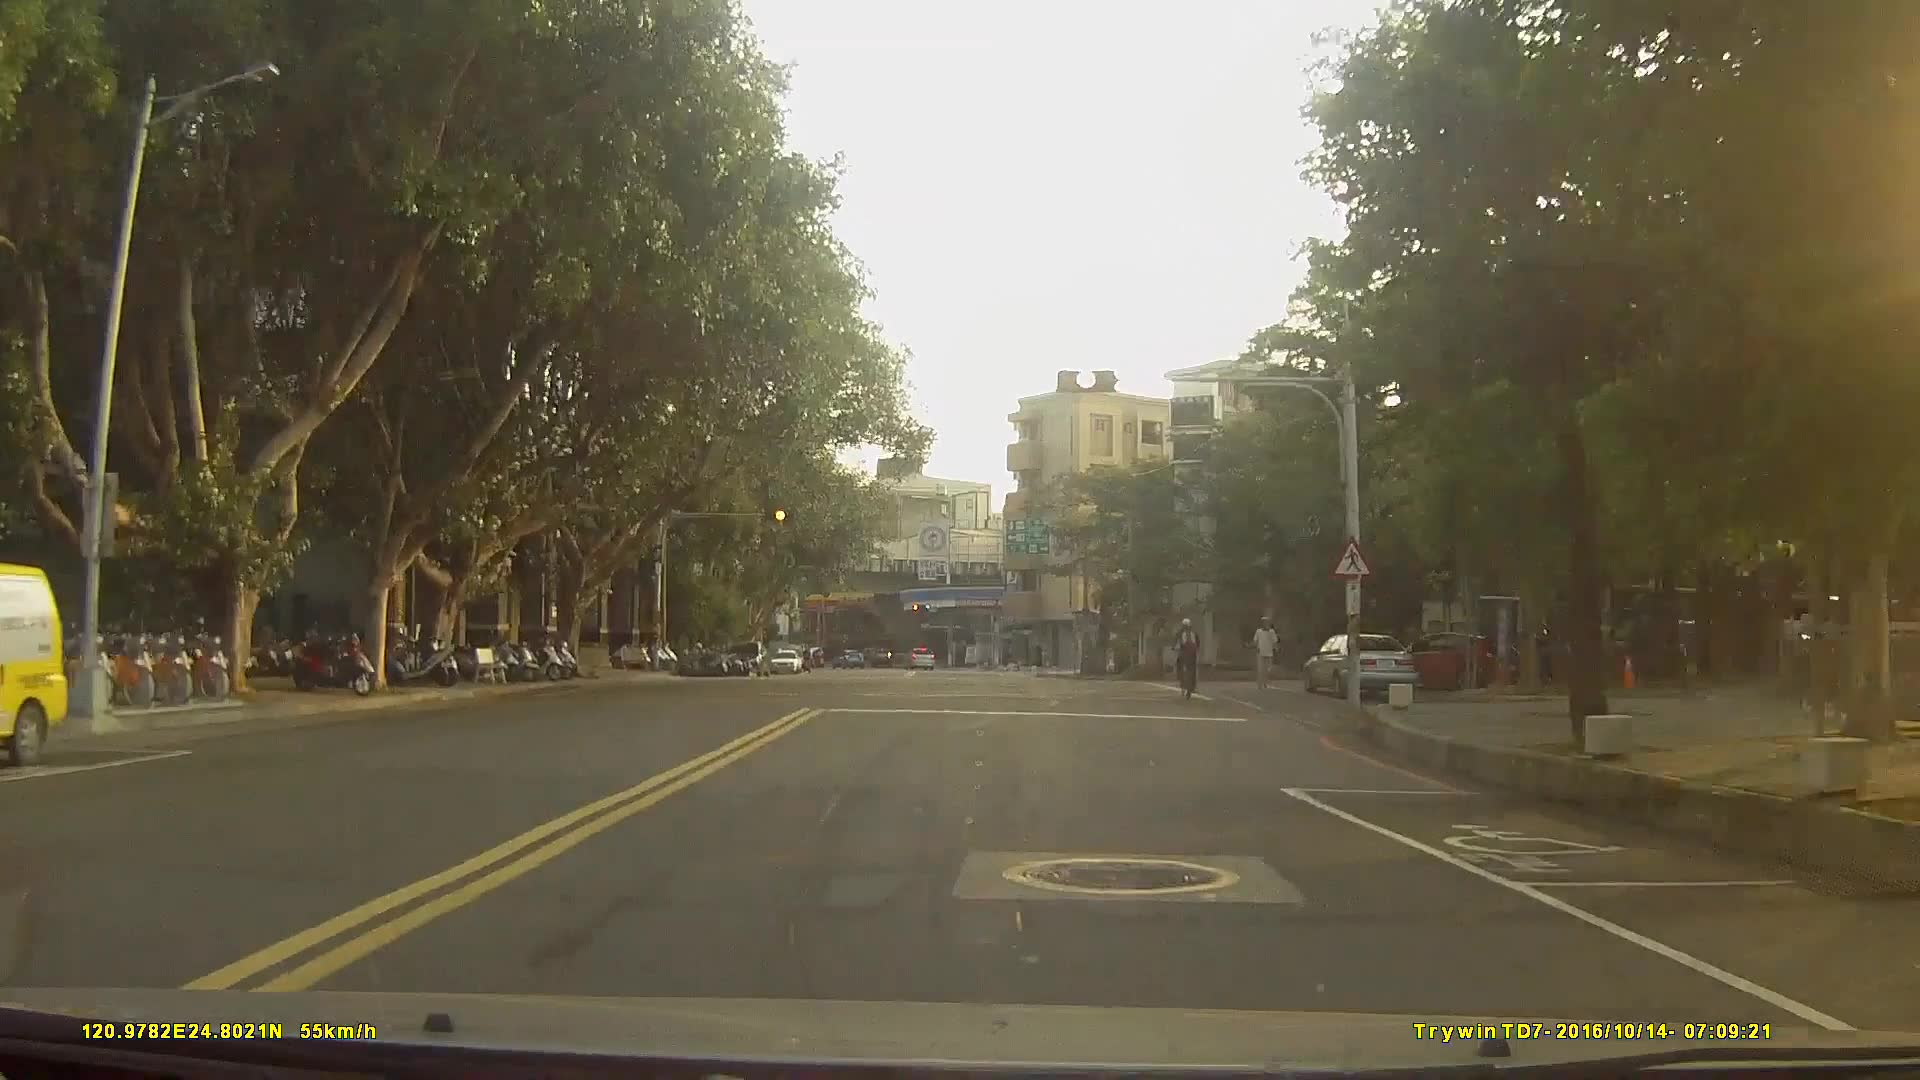pedestrian: (1250, 609, 1282, 691)
rider: (1181, 615, 1210, 693)
vehicle: (1301, 631, 1417, 699), (1382, 627, 1494, 691), (725, 637, 772, 677), (768, 645, 802, 671), (901, 643, 934, 667)
